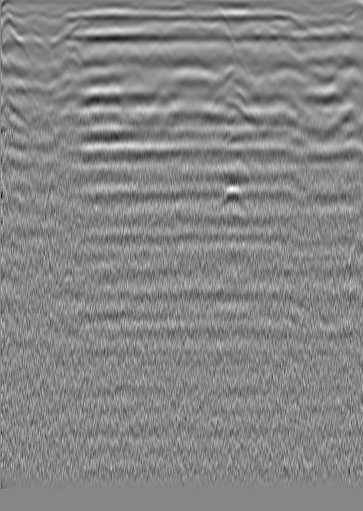가스: (216, 181, 246, 215)
상수: (301, 23, 321, 43)
오수: (0, 13, 20, 33)
우수: (147, 17, 167, 37)
